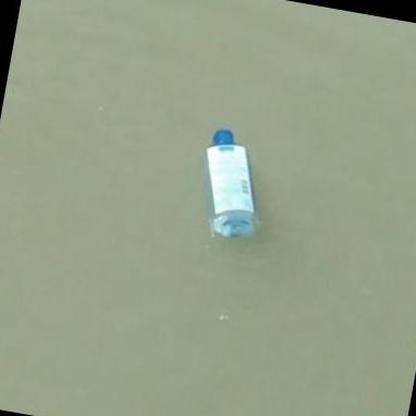plastic bottle: (203, 129, 262, 236)
